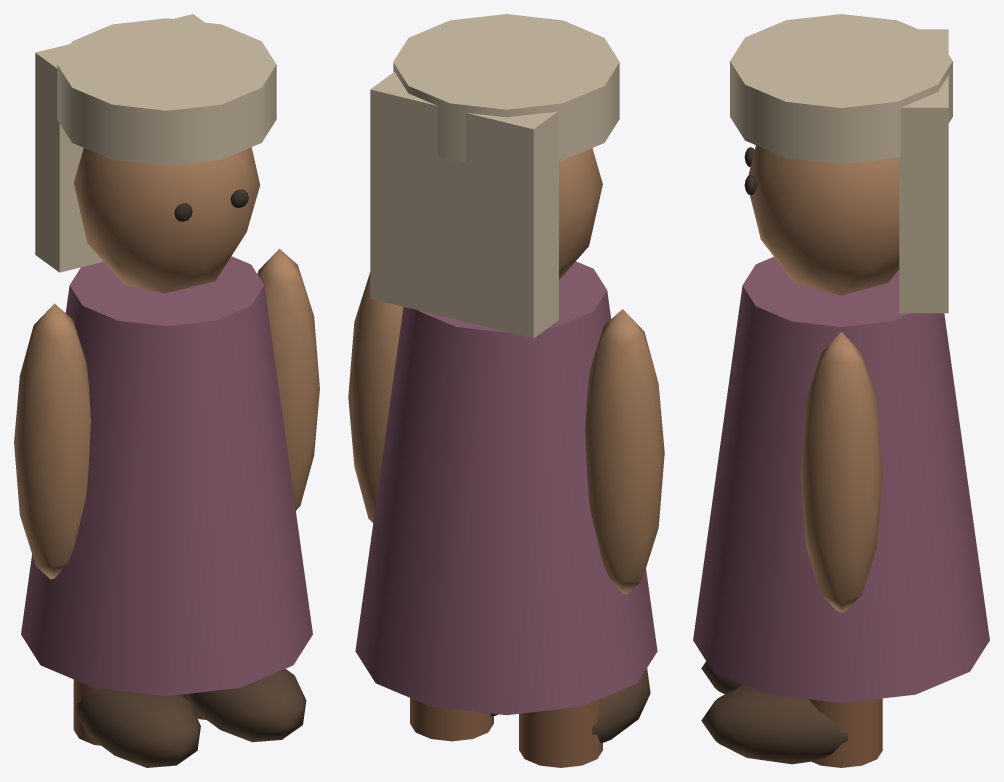
The model's file is resident-taram.glb.
3 views of the same model, side by side, from view 1: azimuth 30°, elevation 25°; view 2: azimuth 150°, elevation 25°; view 3: azimuth 270°, elevation 25° (orthographic). The views are drawn at different scales.
Parts seen in each view (by area): view 1: resident-taram; view 2: resident-taram; view 3: resident-taram.
Boxes of the visible parts, x1=… form: resident-taram: x1=14, y1=14, x2=319, y2=767; resident-taram: x1=348, y1=14, x2=664, y2=767; resident-taram: x1=693, y1=14, x2=989, y2=767.
Size of the model in its own units: 0.84 by 1.79 by 0.72.
